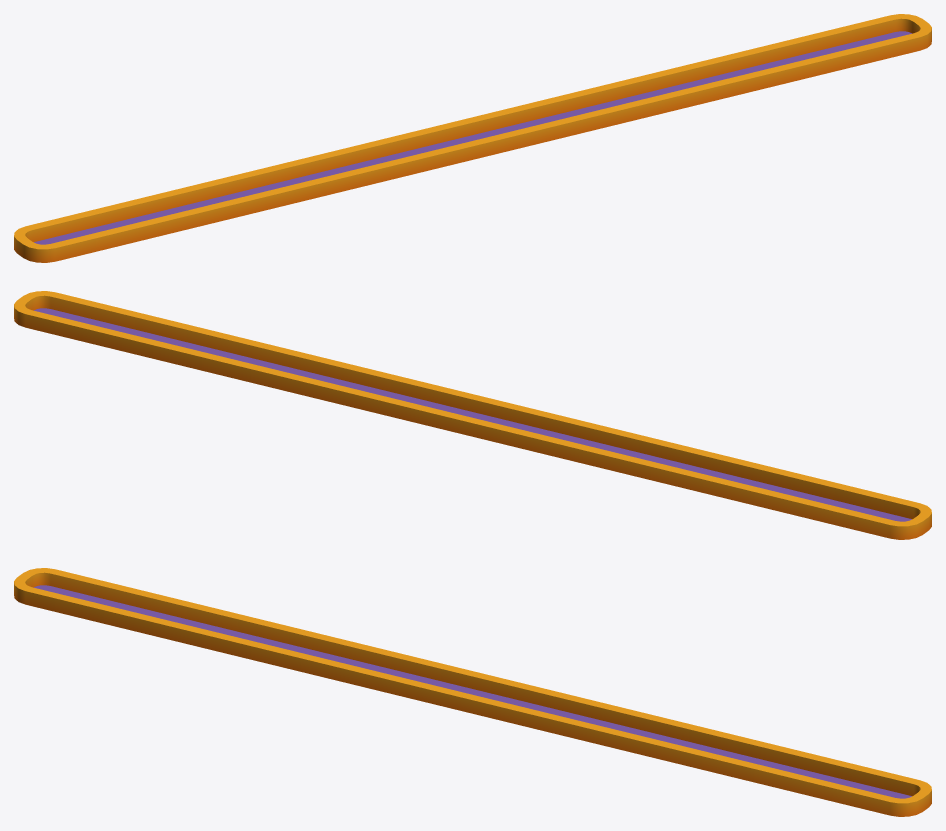
The model's file is Gound_Socket_03_v03.fbx.
3 renders of one model, top to bottom at view 1: azimuth 30°, elevation 25°; view 2: azimuth 150°, elevation 25°; view 3: azimuth 330°, elevation 25°, orthographic.
Parts seen in each view (by area): view 1: Obstacle_Gound_Socket_03_v03; view 2: Obstacle_Gound_Socket_03_v03; view 3: Obstacle_Gound_Socket_03_v03.
Boxes of the visible parts, left/top/right/bottom form: Obstacle_Gound_Socket_03_v03: left=14, top=14, right=931, bottom=262; Obstacle_Gound_Socket_03_v03: left=14, top=291, right=931, bottom=539; Obstacle_Gound_Socket_03_v03: left=14, top=568, right=931, bottom=816.
Size of the model in its own units: 350 by 5 by 20.
Materials: 1 (1 with a texture image).
